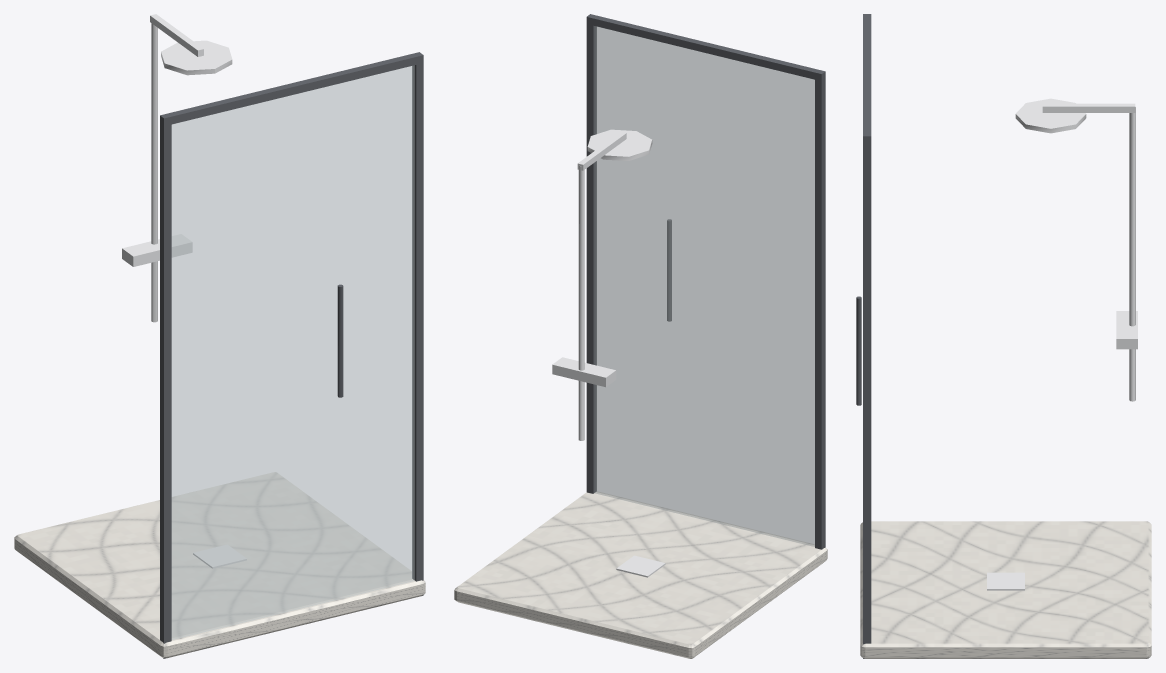
Rendered from shower_glass_enclosure.glb.
The picture shows the model from 3 angles, left to right: view 1: azimuth 30°, elevation 25°; view 2: azimuth 150°, elevation 25°; view 3: azimuth 270°, elevation 25°; orthographic projection. The views are drawn at different scales.
Parts seen in each view (by area): view 1: shower_glass_enclosure_glassClear, shower_glass_enclosure_marbleCarrara, shower_glass_enclosure_metalBlack, shower_glass_enclosure_metalChrome; view 2: shower_glass_enclosure_glassClear, shower_glass_enclosure_marbleCarrara, shower_glass_enclosure_metalBlack, shower_glass_enclosure_metalChrome; view 3: shower_glass_enclosure_marbleCarrara, shower_glass_enclosure_metalBlack, shower_glass_enclosure_metalChrome.
Boxes of the visible parts, bbox=[...] form: shower_glass_enclosure_glassClear: bbox=[171, 65, 414, 639]; shower_glass_enclosure_marbleCarrara: bbox=[14, 472, 425, 658]; shower_glass_enclosure_metalBlack: bbox=[160, 52, 423, 658]; shower_glass_enclosure_metalChrome: bbox=[122, 14, 246, 568]; shower_glass_enclosure_glassClear: bbox=[594, 26, 814, 546]; shower_glass_enclosure_marbleCarrara: bbox=[454, 491, 827, 658]; shower_glass_enclosure_metalBlack: bbox=[586, 14, 825, 549]; shower_glass_enclosure_metalChrome: bbox=[552, 129, 665, 577]; shower_glass_enclosure_marbleCarrara: bbox=[860, 521, 1151, 658]; shower_glass_enclosure_metalBlack: bbox=[856, 14, 871, 658]; shower_glass_enclosure_metalChrome: bbox=[987, 98, 1137, 590].
Size of what is drawn, in the model's own units: 1.05 by 2.05 by 1.05.
Materials: 4 (1 with a texture image).
